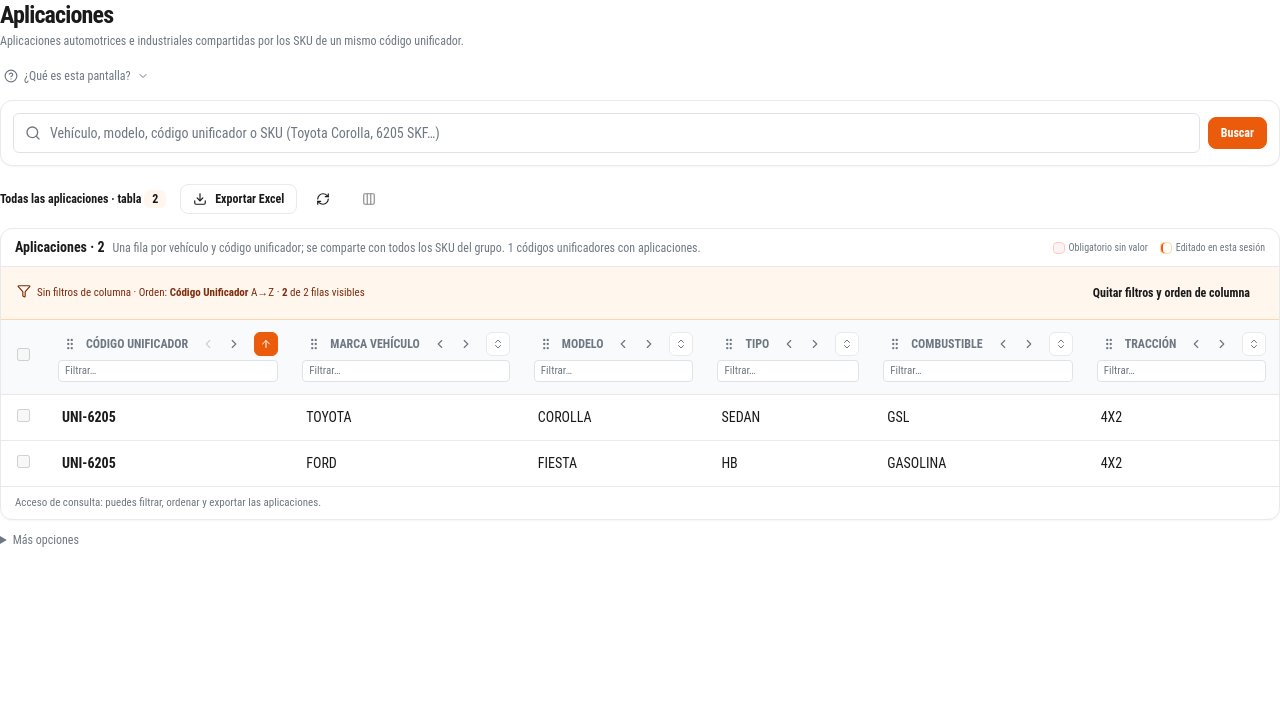
Test case: catálogo secundario aprobado › combina el autofiltro de Aplicaciones con la vista y exporta solo las filas visibles
The image size is (1280, 720).
Click the button named "Marca Vehículo: filtrar u ordenar": click(498, 344) 486,332 -> 510,356
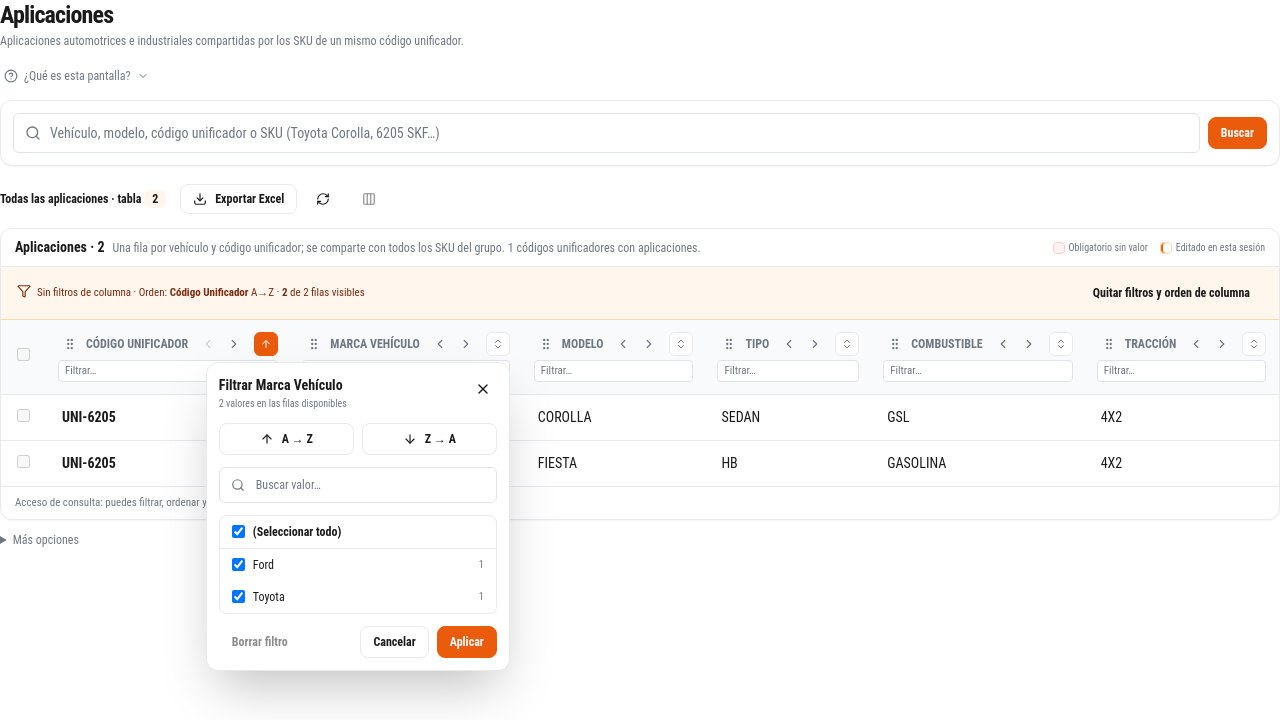
Click the checkbox labelled "(Seleccionar todo)": click(238, 532) 232,525 -> 245,538
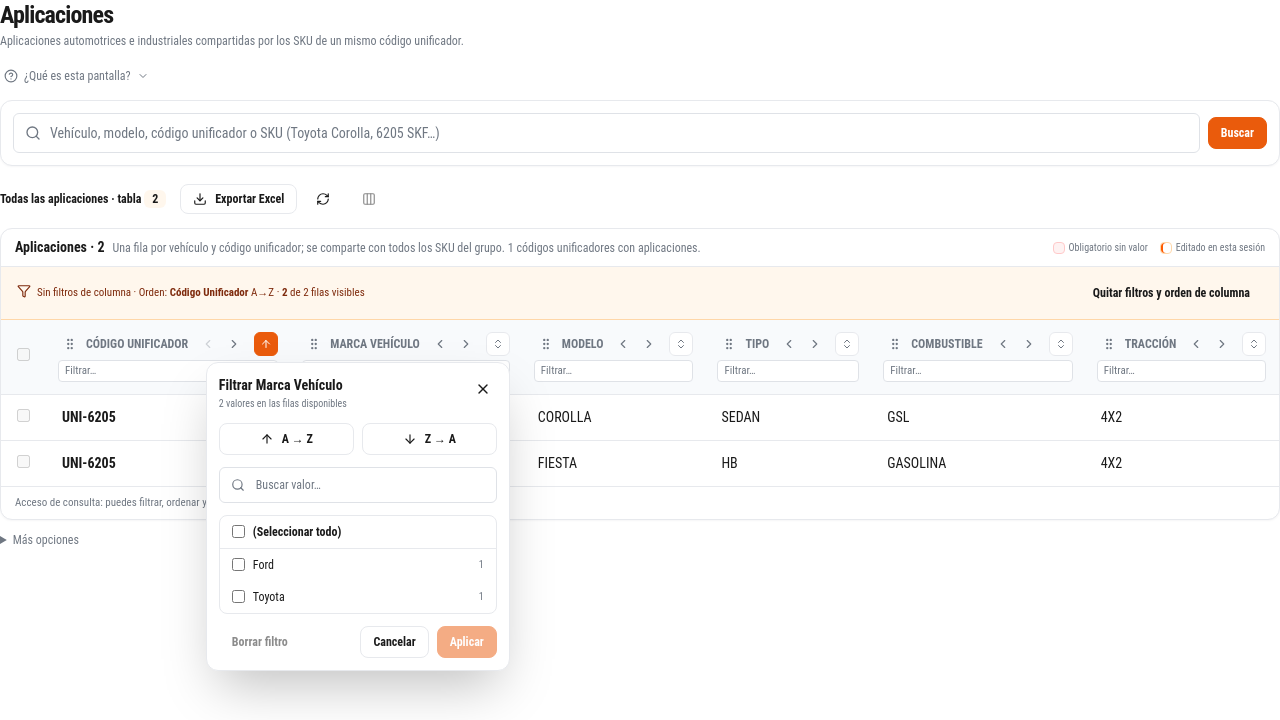
Click the checkbox labelled "Toyota 1": click(238, 596) 232,590 -> 245,603
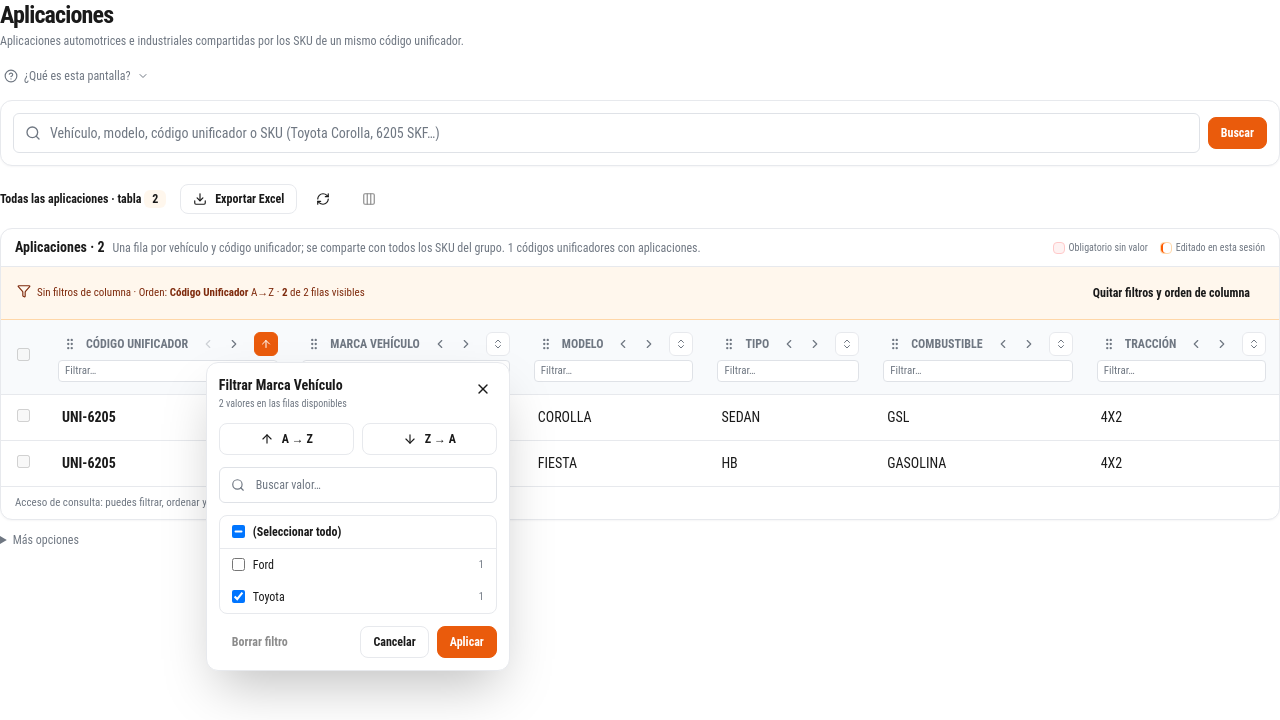
Click the button "Aplicar": click(467, 642) 437,626 -> 497,658
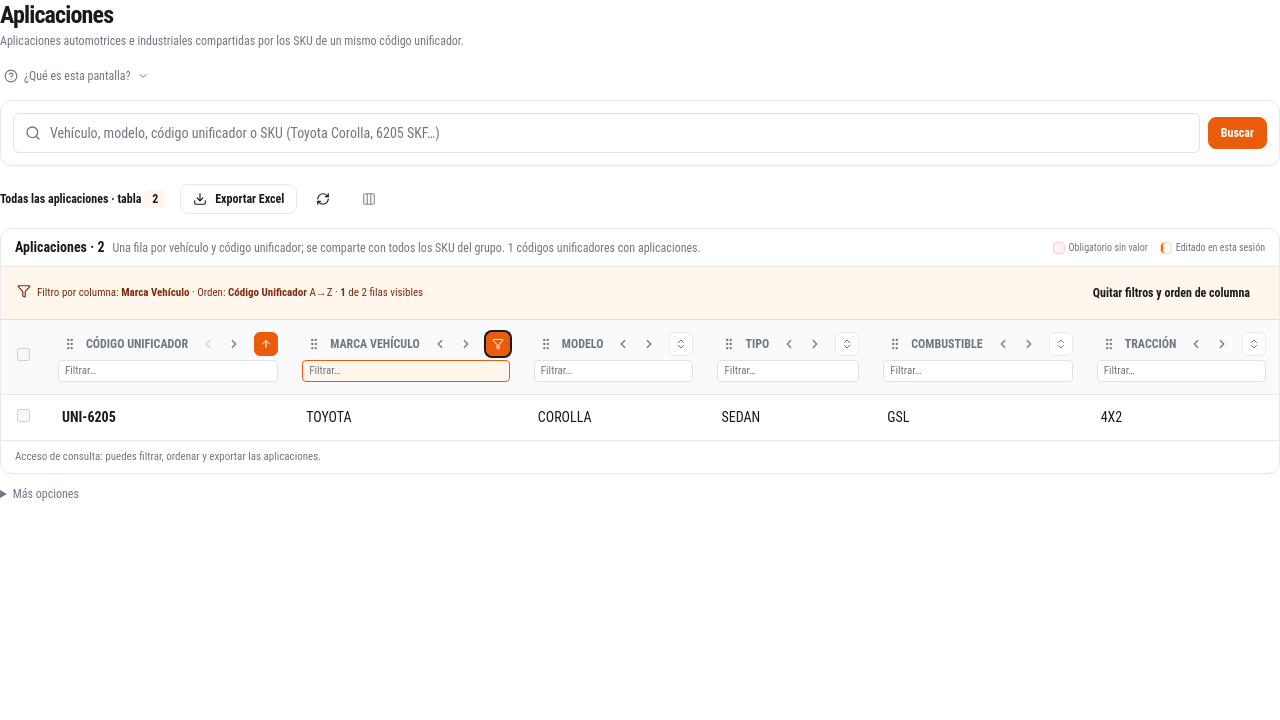
Expected: the button "Exportar Excel" is enabled, 180,184 -> 297,214
Expected: the message shows "1 de 2 filas visibles", 1,266 -> 1279,320
